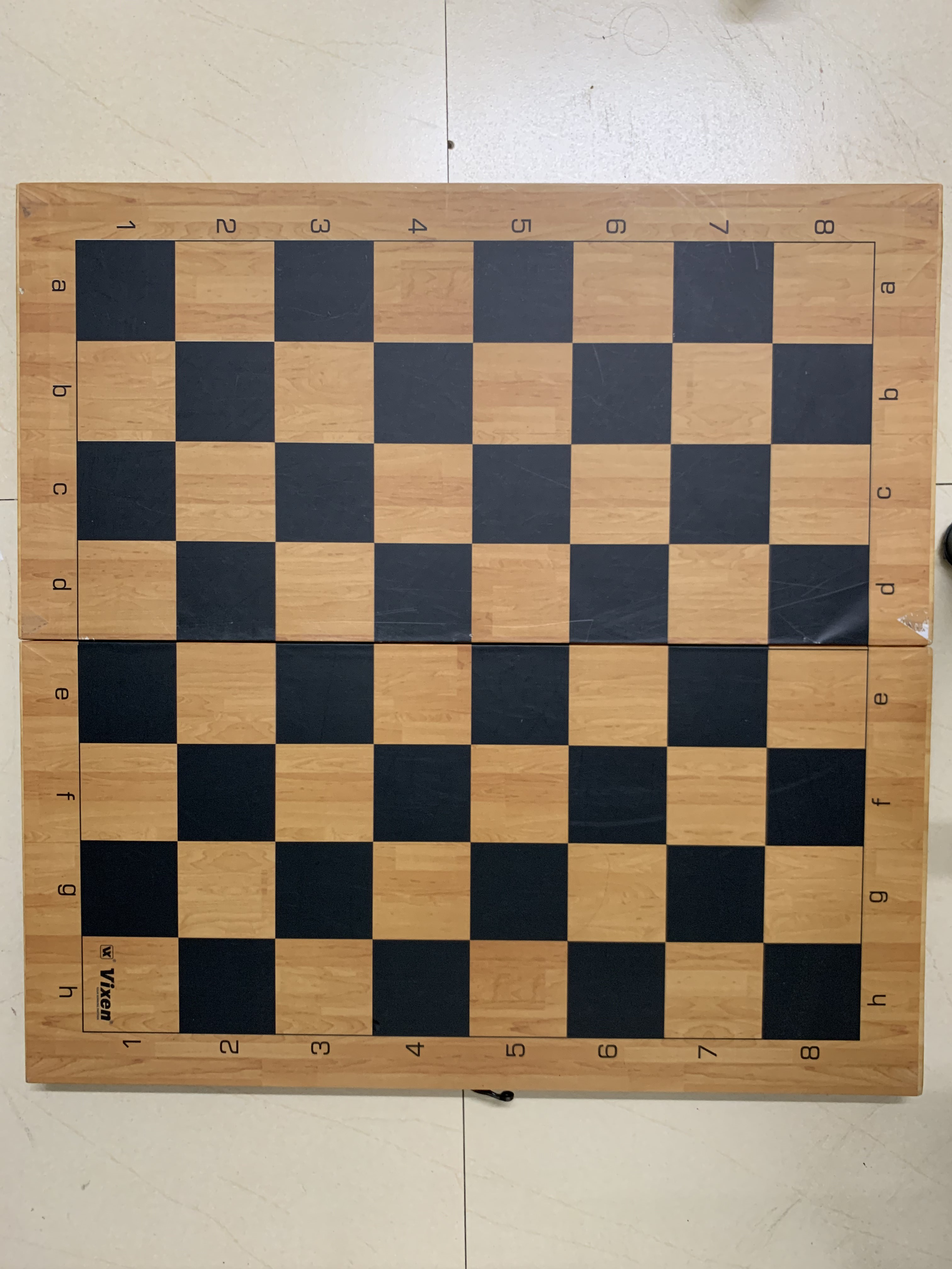empty_board: (22, 177, 926, 1104)
